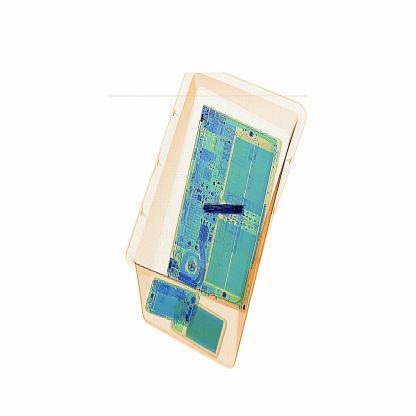scissors: (206, 198, 248, 221)
